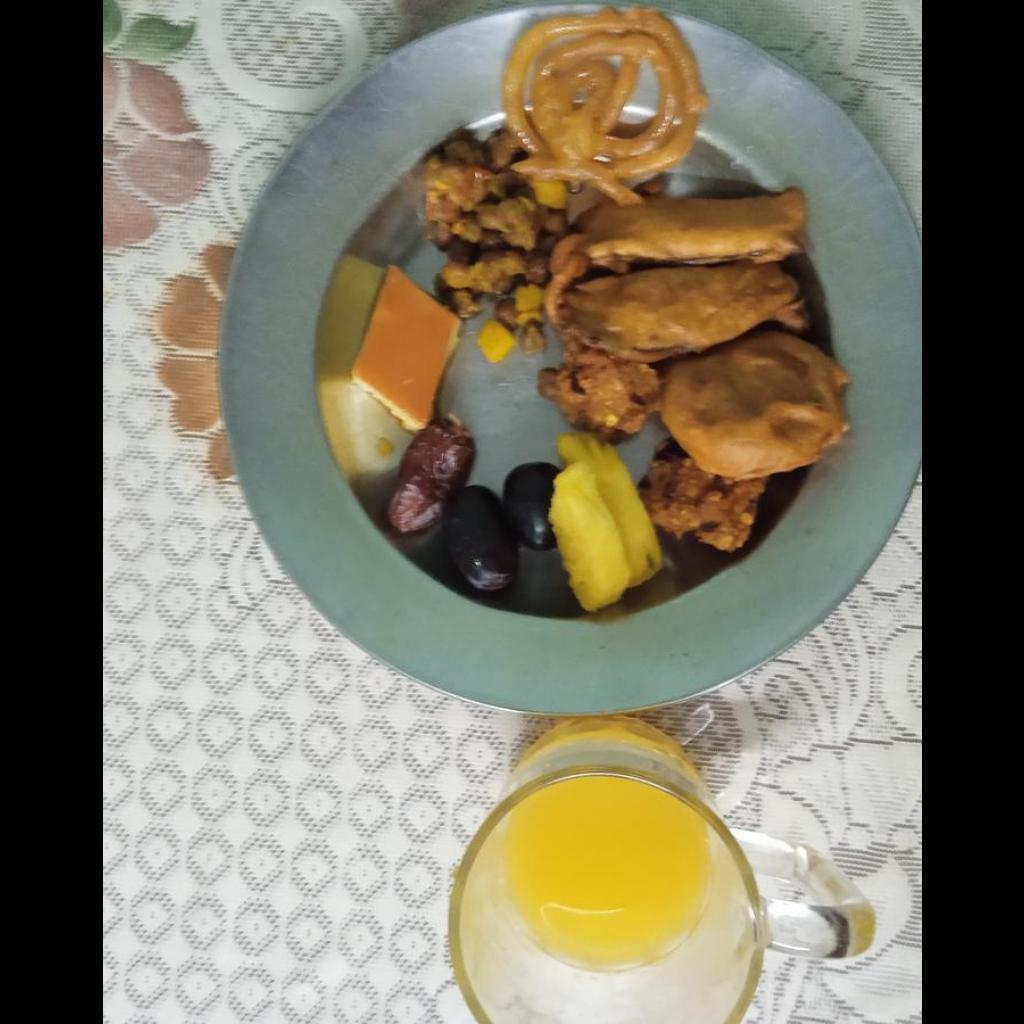beguni: (557, 192, 805, 355)
chola: (427, 127, 549, 316)
chop-alu: (666, 347, 847, 468)
dates: (392, 427, 541, 587)
juice: (503, 777, 705, 976)
pineapple: (552, 436, 664, 604)
piyaju: (639, 439, 766, 552), (538, 336, 662, 444)
sweets: (500, 7, 699, 184), (352, 267, 459, 428)
